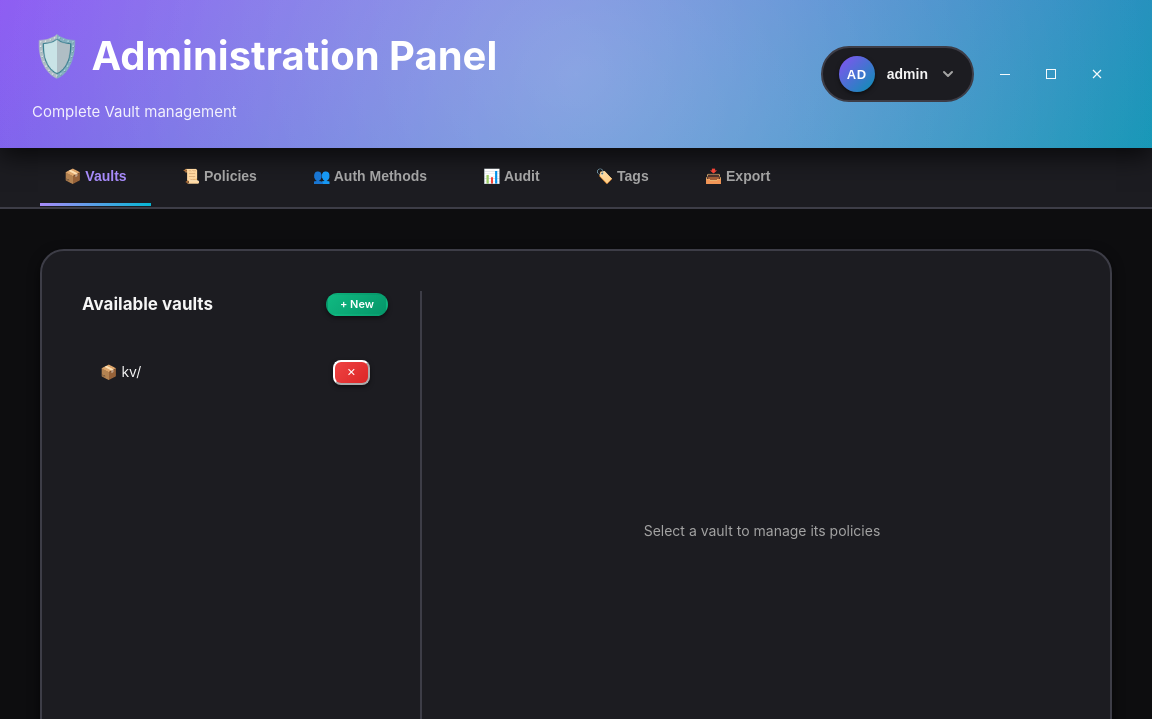
Test: AdminPanel — aucune couleur codée en dur (thème sombre) › onglet Tags : création, tags partagés, tags découverts, encadrés
Click the tab with class "admin-tab" showing "🏷️ Tags".
click(622, 178)  # box [572,148,673,207]
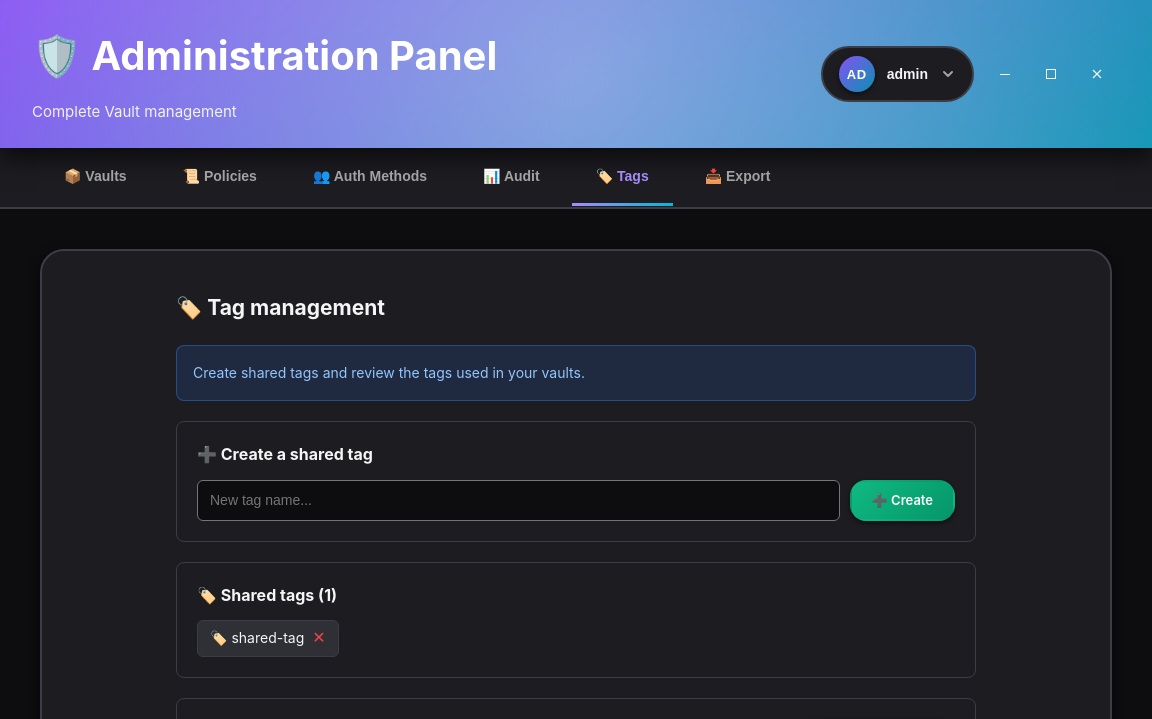
Now the text "shared-tag" is shown, box [231,629,304,646]
